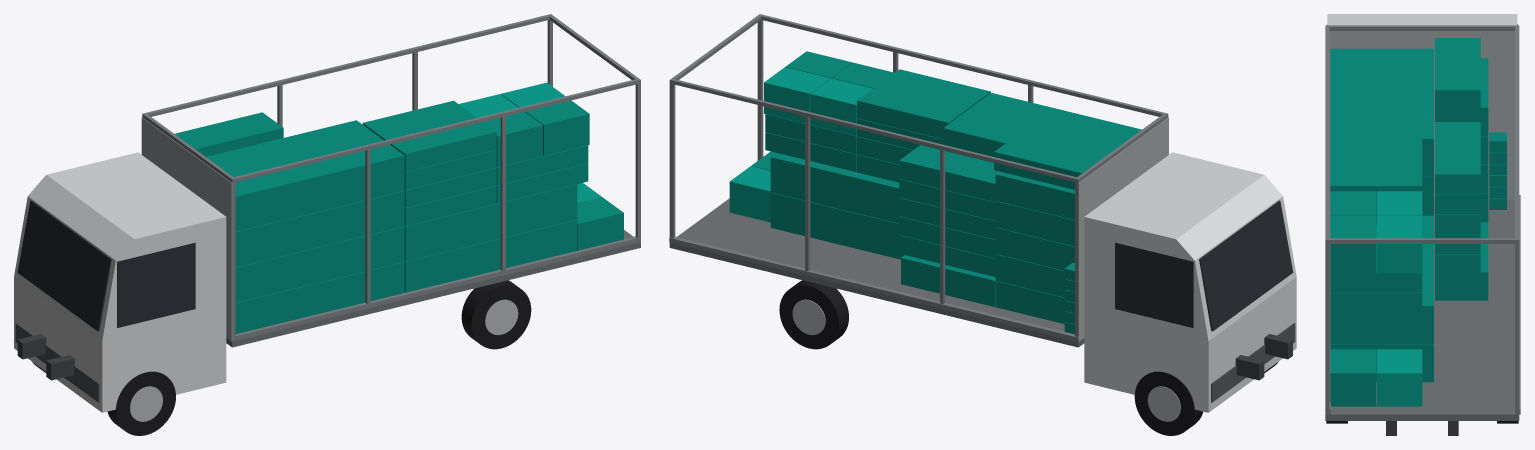
File: caminhao-BL03.glb
3 renders of one model, left to right at view 1: azimuth 30°, elevation 25°; view 2: azimuth 150°, elevation 25°; view 3: azimuth 270°, elevation 25°, orthographic. The views are drawn at different scales.
Parts seen in each view (by area): view 1: cabine, part34, part21, part36, part33, part32, part35, janela, part31, part40, frente, part13 (+26 smaller); view 2: cabine, piso, part34, part21, part40, janela, part36, part35, frente, part54, part15, part49 (+35 smaller); view 3: piso, part34, frente, part40, part36, part49, part54, part60, part59, part58, part57, cabine (+29 smaller).
Part boxes in pixels (x1=…): cabine: x1=14, y1=152, x2=226, y2=412; part34: x1=206, y1=120, x2=404, y2=231; part21: x1=17, y1=200, x2=111, y2=331; part36: x1=404, y1=184, x2=577, y2=261; part33: x1=235, y1=191, x2=404, y2=267; part32: x1=235, y1=226, x2=404, y2=302; part35: x1=404, y1=220, x2=577, y2=292; janela: x1=117, y1=242, x2=195, y2=327; part31: x1=235, y1=262, x2=404, y2=333; part40: x1=362, y1=100, x2=496, y2=171; frente: x1=141, y1=117, x2=232, y2=341; part13: x1=233, y1=236, x2=640, y2=340; cabine: x1=1084, y1=152, x2=1296, y2=412; piso: x1=669, y1=198, x2=1084, y2=347; part34: x1=943, y1=93, x2=1141, y2=162; part21: x1=1199, y1=200, x2=1293, y2=331; part40: x1=857, y1=69, x2=990, y2=138; janela: x1=1115, y1=242, x2=1193, y2=327; part36: x1=770, y1=153, x2=899, y2=223; part35: x1=770, y1=192, x2=904, y2=259; frente: x1=1078, y1=117, x2=1168, y2=341; part54: x1=899, y1=145, x2=999, y2=202; part15: x1=669, y1=237, x2=1078, y2=341; part49: x1=994, y1=136, x2=1102, y2=189; piso: x1=1325, y1=200, x2=1519, y2=420; part34: x1=1330, y1=48, x2=1433, y2=176; frente: x1=1329, y1=31, x2=1514, y2=199; part40: x1=1330, y1=138, x2=1422, y2=204; part36: x1=1330, y1=216, x2=1433, y2=343; part49: x1=1435, y1=38, x2=1480, y2=109; part54: x1=1435, y1=122, x2=1480, y2=193; part60: x1=1376, y1=349, x2=1422, y2=406; part59: x1=1330, y1=349, x2=1375, y2=406; part58: x1=1376, y1=215, x2=1422, y2=273; part57: x1=1330, y1=215, x2=1375, y2=273; cabine: x1=1327, y1=14, x2=1517, y2=25.
Size of the model in its own units: 9.04 by 3.61 by 2.53.
